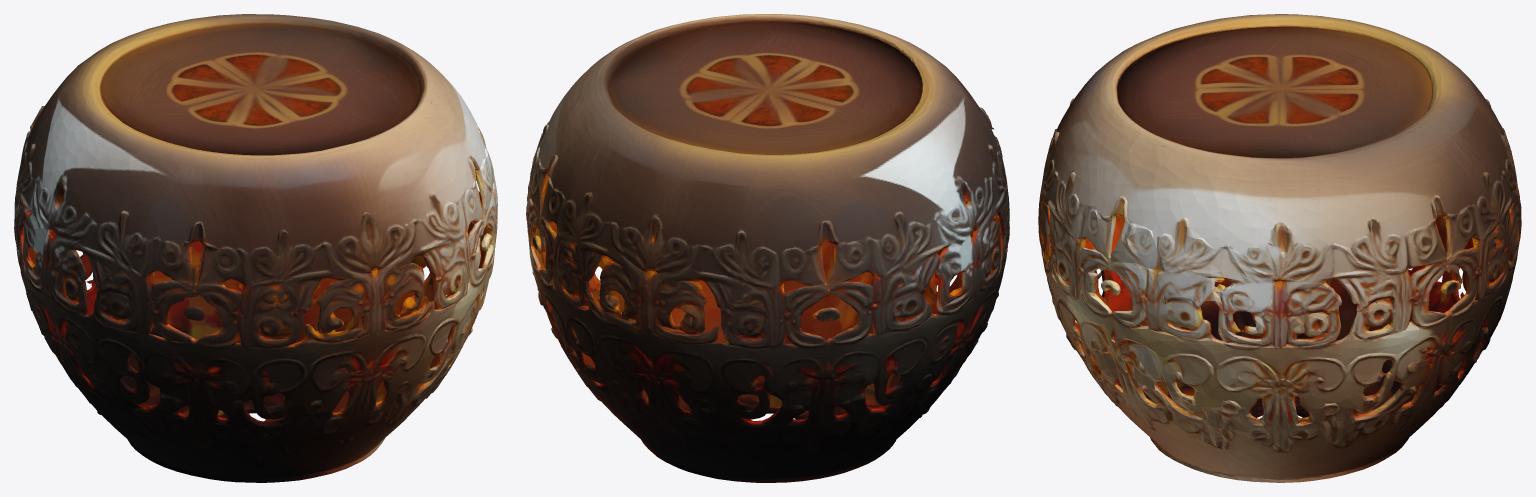
Rendered from ceramic-garden-stool-3d.jpeg.glb.
The picture shows the model from 3 angles, left to right: view 1: azimuth 30°, elevation 25°; view 2: azimuth 150°, elevation 25°; view 3: azimuth 270°, elevation 25°; orthographic projection.
Parts seen in each view (by area): view 1: world; view 2: world; view 3: world.
Boxes of the visible parts, <box> form: world: <box>14,14,497,482</box>; world: <box>526,14,1009,482</box>; world: <box>1038,14,1521,482</box>.
Size of the model in its own units: 0.9987 by 0.7795 by 0.9996.
1 material, 1 textured.
